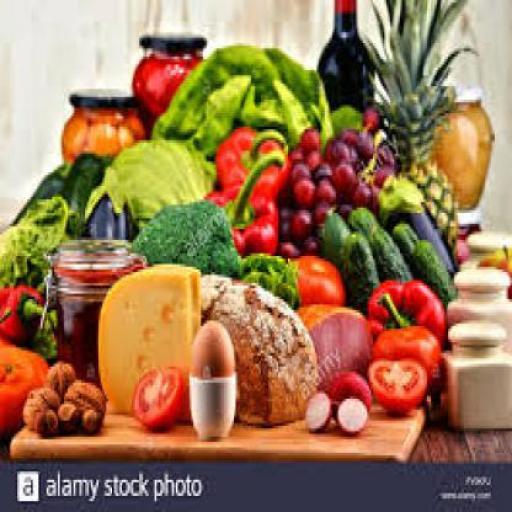biodegradable: (151, 40, 334, 162), (361, 0, 477, 170), (195, 270, 315, 424), (94, 261, 195, 410), (104, 132, 216, 229), (128, 196, 240, 273), (202, 145, 280, 251), (377, 170, 454, 272), (0, 191, 78, 283), (398, 148, 454, 267), (295, 299, 373, 380), (365, 275, 446, 348), (214, 124, 292, 194), (370, 324, 440, 396), (0, 342, 47, 435), (81, 161, 133, 238), (62, 151, 108, 237), (7, 160, 68, 218), (365, 353, 423, 410), (238, 250, 299, 304), (338, 226, 377, 308), (131, 367, 184, 426), (408, 237, 454, 300), (363, 221, 407, 280), (0, 283, 43, 342), (292, 253, 343, 302), (189, 318, 232, 375), (319, 367, 369, 410), (62, 378, 107, 420), (475, 243, 511, 294), (324, 205, 350, 261), (332, 394, 367, 432), (42, 358, 74, 399), (21, 388, 58, 423), (390, 221, 420, 261), (330, 102, 359, 136), (330, 159, 358, 194), (35, 304, 52, 358), (305, 388, 329, 426), (289, 173, 315, 205), (348, 202, 378, 229), (290, 207, 313, 240), (322, 135, 350, 162), (33, 404, 56, 432), (355, 129, 375, 159), (56, 399, 78, 426), (77, 404, 100, 429), (359, 102, 379, 127), (299, 121, 319, 146), (353, 178, 373, 202), (288, 161, 310, 181), (340, 122, 359, 144), (284, 140, 306, 159), (315, 178, 332, 202), (228, 224, 243, 250), (0, 304, 10, 342), (311, 161, 330, 181), (278, 205, 291, 234), (303, 148, 319, 170), (299, 234, 321, 250), (312, 202, 328, 221), (276, 240, 294, 250)
glass: (129, 35, 203, 119), (315, 0, 373, 97), (60, 88, 141, 154), (442, 210, 481, 259)
